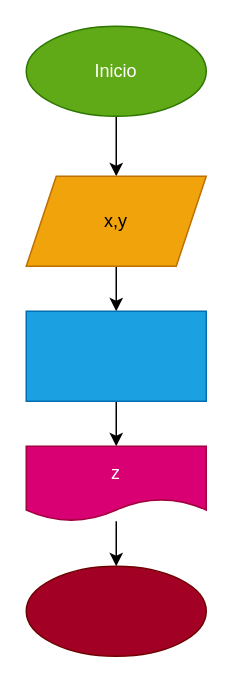
Image size: 233x683. Some labels were removed from this diagram. The shapes that lost their labels are listed below. From the top down, each one's centre as x and y in pixels, then its label:
At [115,355]: "z=x**y".
At [115,610]: "Fin".
